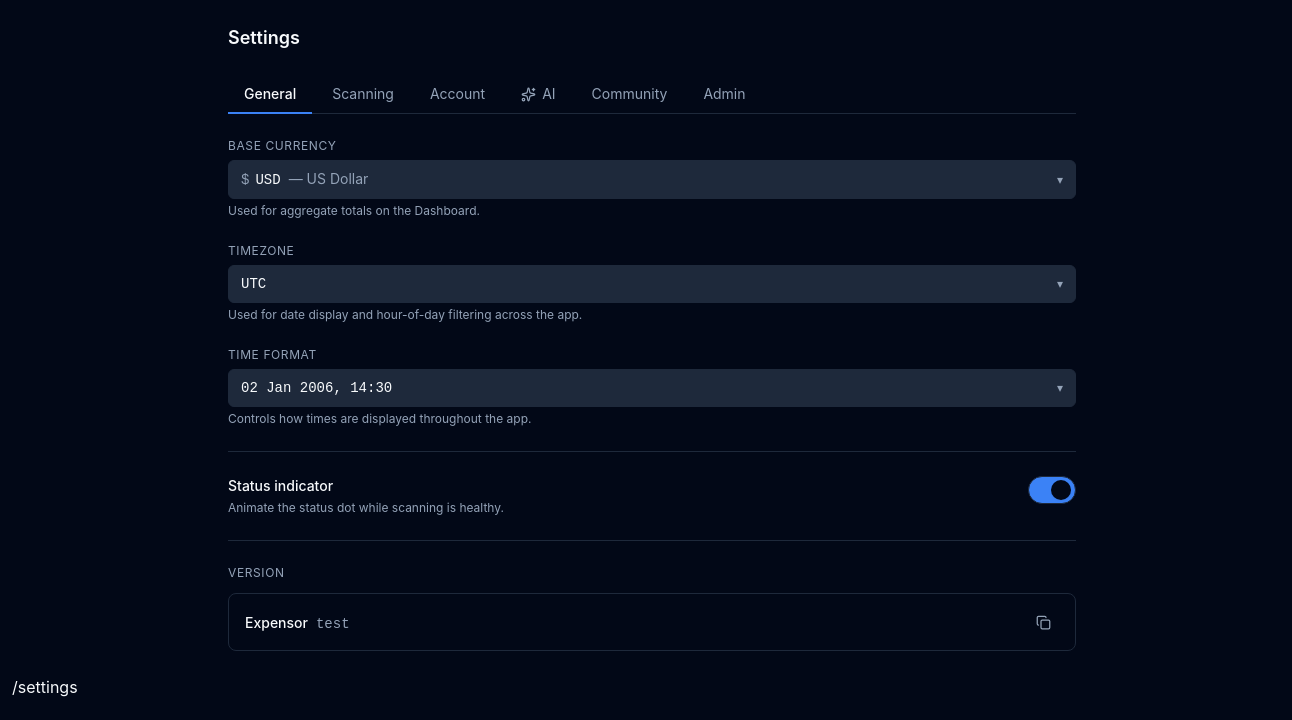
Settings › copies the version with the shared copy tooltip behavior
Expected: the text "Version" is shown, [228, 565, 285, 580]
Hover over the button named "Copy version": (1043, 622) [1027, 606, 1059, 638]
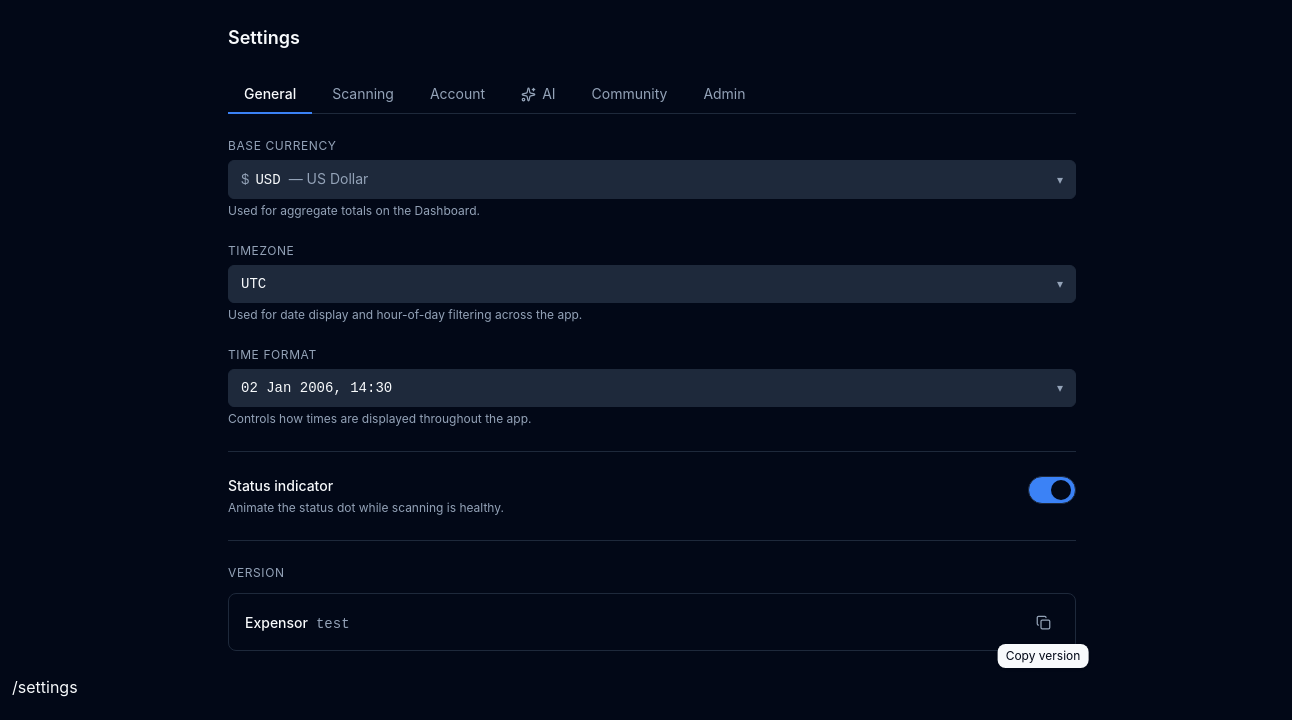
Now the text "Copy version" is shown, box [998, 644, 1088, 668]
Click the button named "Copy version": (1043, 622) [1027, 606, 1059, 638]
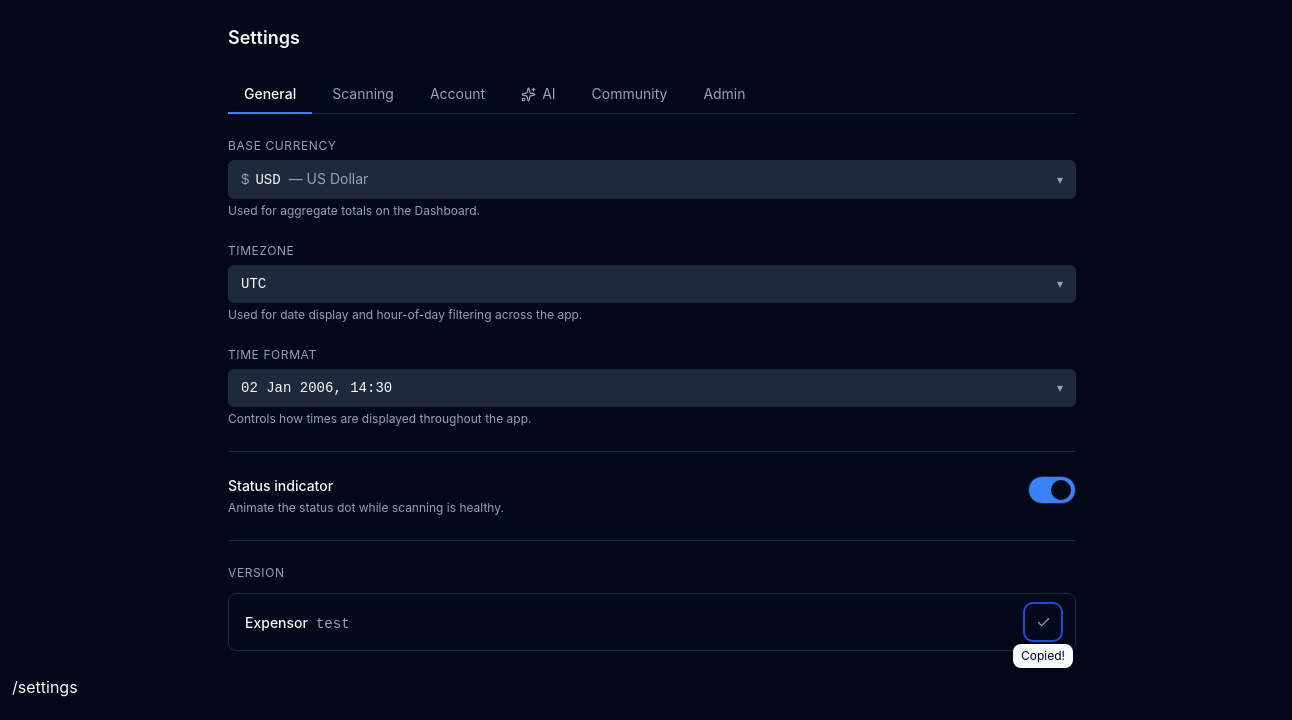
Now the text "Copied!" is shown, box [1013, 644, 1073, 668]
